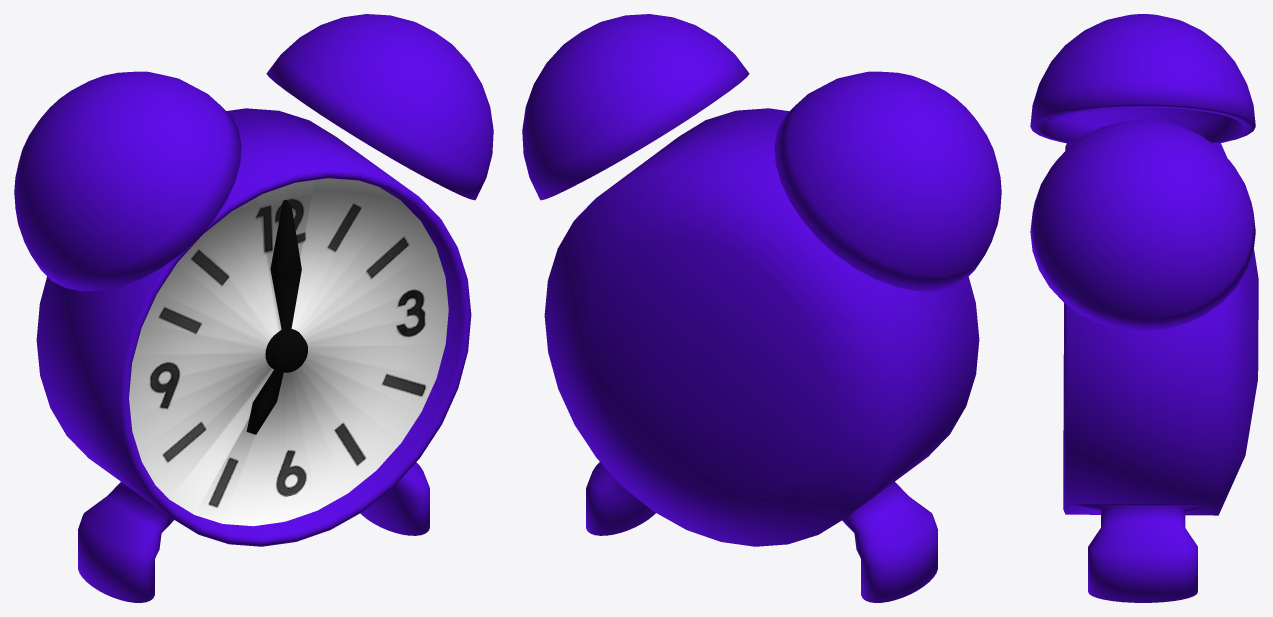
Rendered from despertador.fbx.
3 renders of one model, left to right at view 1: azimuth 30°, elevation 25°; view 2: azimuth 150°, elevation 25°; view 3: azimuth 270°, elevation 25°, orthographic. The views are drawn at different scales.
Visible parts, largest first — view 1: Reloj, Campana01, Campana02; view 2: Reloj, Campana01, Campana02; view 3: Reloj, Campana02, Campana01.
Part boxes in pixels (bbox=[...]): Reloj: bbox=[36, 108, 471, 602]; Campana01: bbox=[14, 71, 241, 291]; Campana02: bbox=[266, 14, 493, 200]; Reloj: bbox=[544, 108, 979, 602]; Campana01: bbox=[774, 71, 1001, 291]; Campana02: bbox=[522, 14, 749, 200]; Reloj: bbox=[1063, 142, 1258, 602]; Campana02: bbox=[1030, 119, 1255, 330]; Campana01: bbox=[1030, 14, 1255, 143].
Size of the model in its own units: 254 by 268 by 122.
